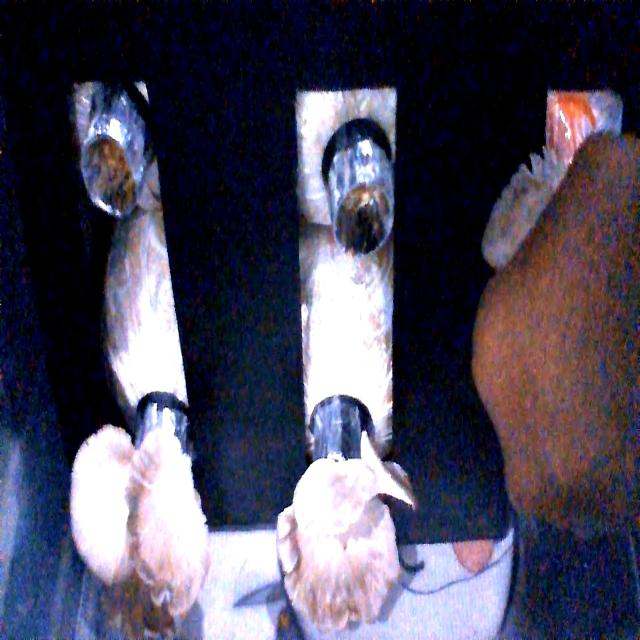big: (68, 425, 200, 605), (275, 447, 397, 625)
nfound: (78, 137, 140, 223), (333, 180, 394, 258)
